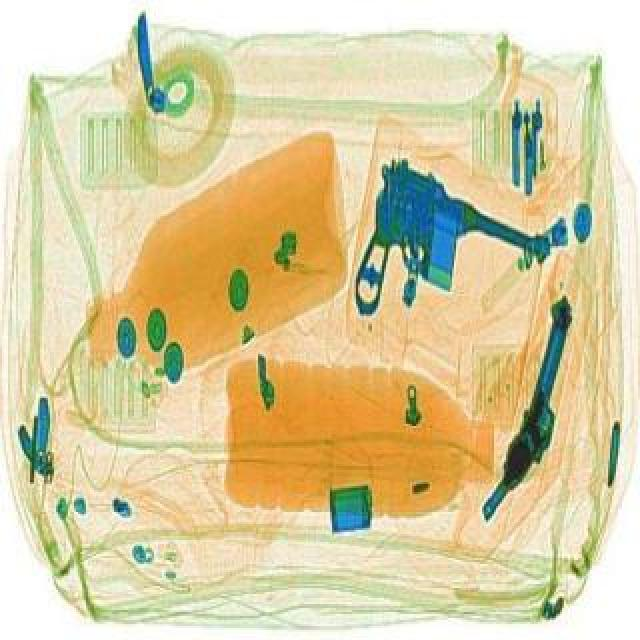gun: (326, 152, 566, 360), (482, 290, 588, 522)
